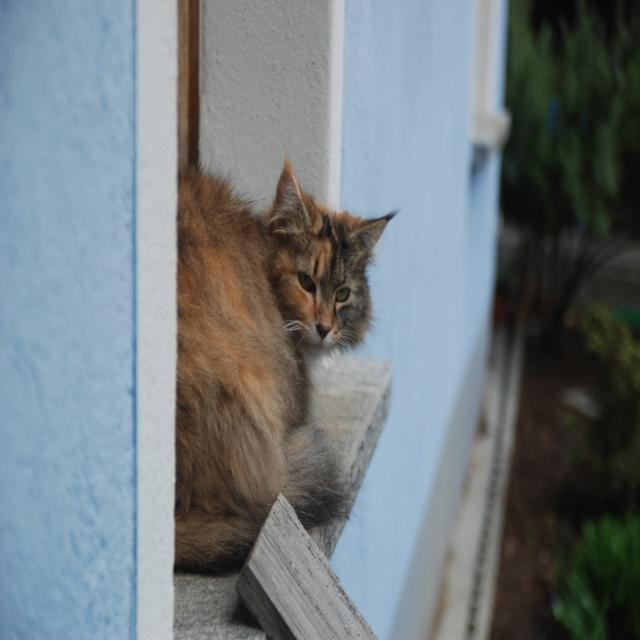Cat: (172, 150, 406, 568)
